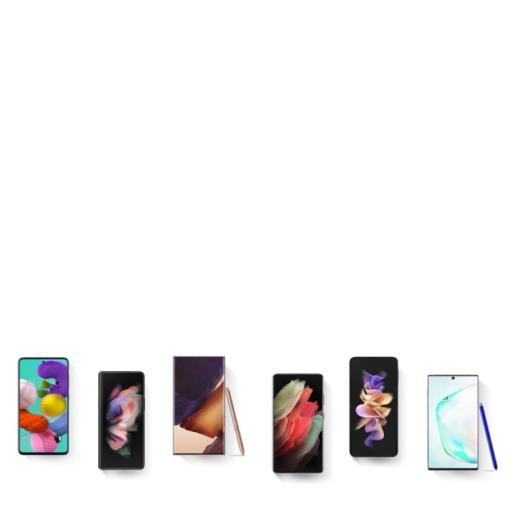phone: (8, 352, 78, 463)
